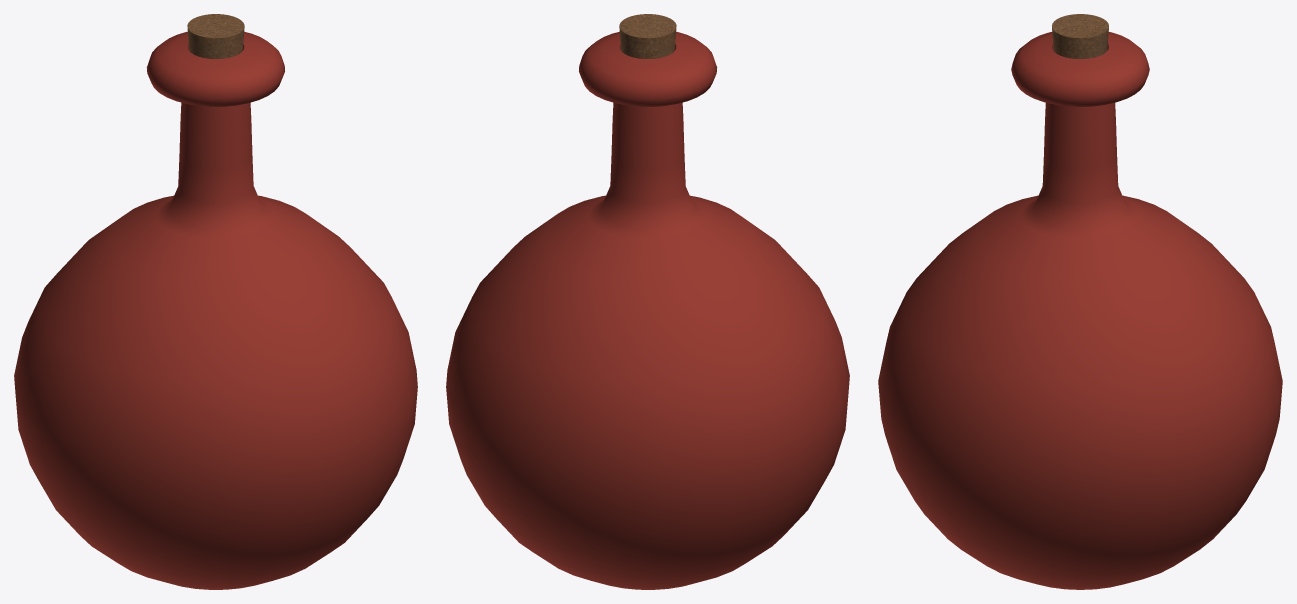
The model's file is flask_regeneration.gltf.
3 views of the same model, side by side, from view 1: azimuth 30°, elevation 25°; view 2: azimuth 150°, elevation 25°; view 3: azimuth 270°, elevation 25° (orthographic).
Parts seen in each view (by area): view 1: Cylinder; view 2: Cylinder; view 3: Cylinder.
Boxes of the visible parts, x1,y1,x2,y2 form: Cylinder: (14,14,417,589); Cylinder: (446,14,849,589); Cylinder: (878,14,1282,589).
Bounding box in the file's own units: 0.1154 × 0.1717 × 0.1154.
Materials: 1 (1 with a texture image).
